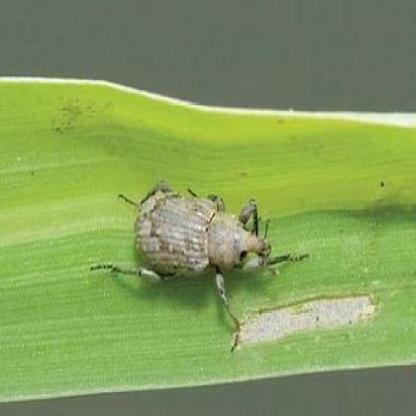rice-bug: (117, 180, 270, 316)
